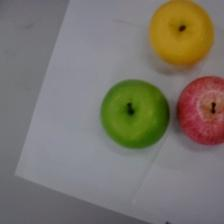green: (101, 80, 170, 149)
red: (177, 76, 224, 145)
yellow: (149, 0, 214, 67)
